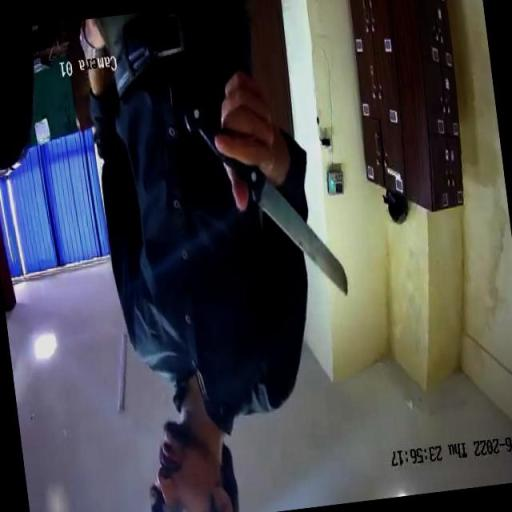knife: (174, 59, 351, 318)
